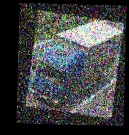truck: (26, 12, 124, 116)
